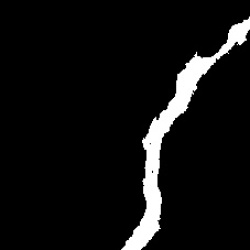crack: (122, 19, 248, 248)
